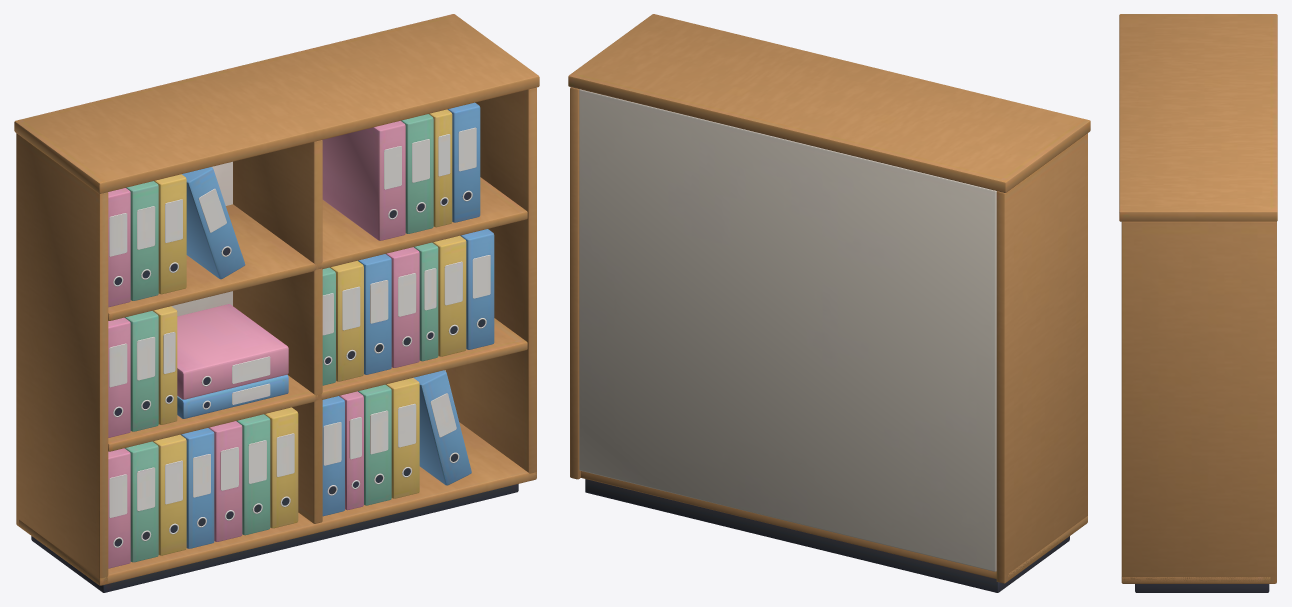
File: binder-shelf.glb
The picture shows the model from 3 angles, left to right: view 1: azimuth 30°, elevation 25°; view 2: azimuth 150°, elevation 25°; view 3: azimuth 270°, elevation 25°; orthographic projection. The views are drawn at different scales.
Visible parts, largest first — view 1: binder-shelf_body; view 2: binder-shelf_body; view 3: binder-shelf_body.
Part boxes in pixels (x1,y1,x2,y2): binder-shelf_body: (14, 14, 539, 592); binder-shelf_body: (568, 14, 1090, 592); binder-shelf_body: (1119, 14, 1277, 592).
Bounding box in the file's own units: 1.21 × 1.1 × 0.408.
Materials: 1 (1 with a texture image).
